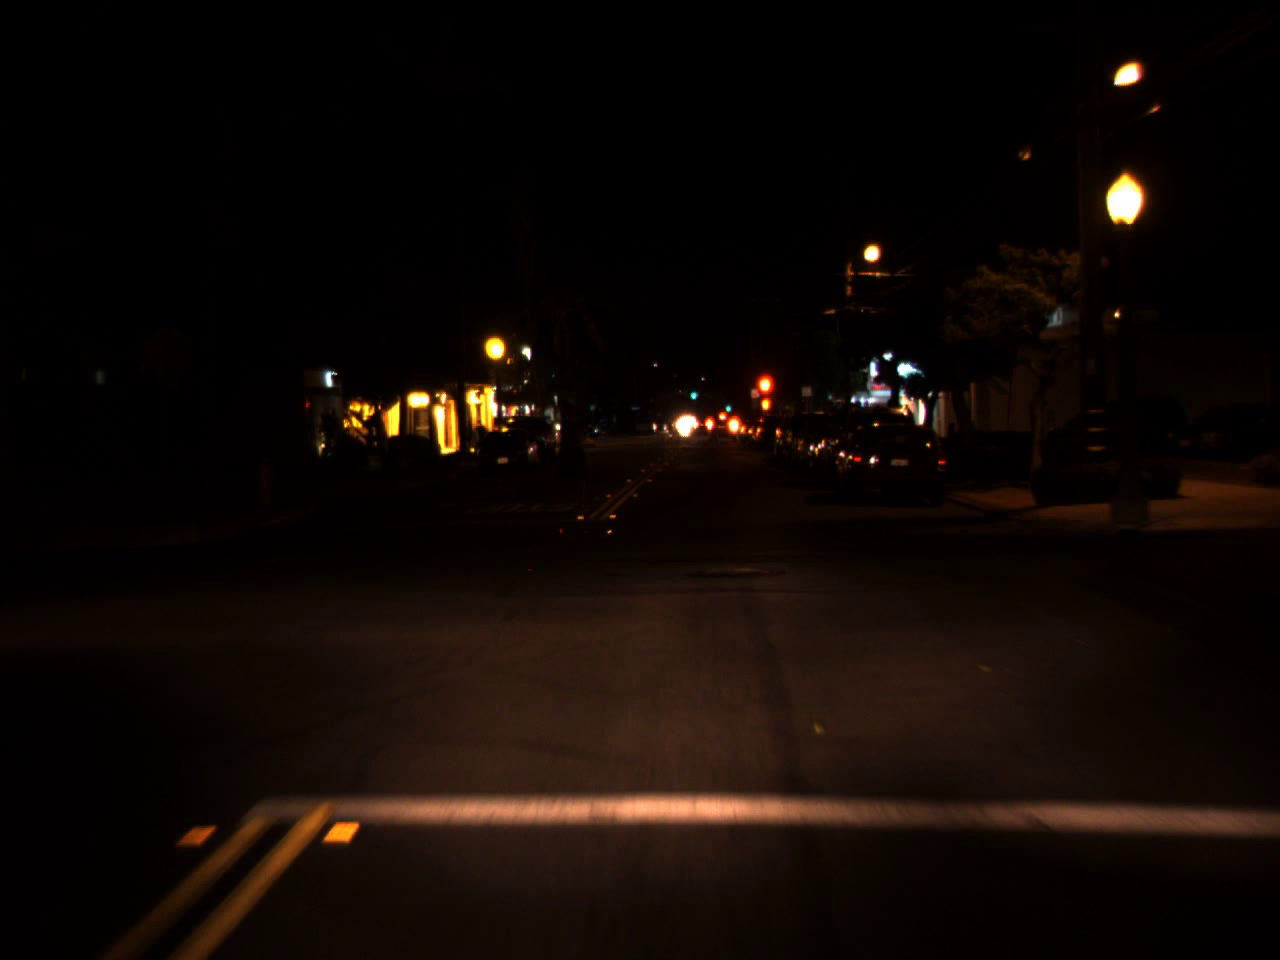go: (723, 397, 732, 415), (689, 385, 698, 400)
stop: (754, 371, 778, 419)
